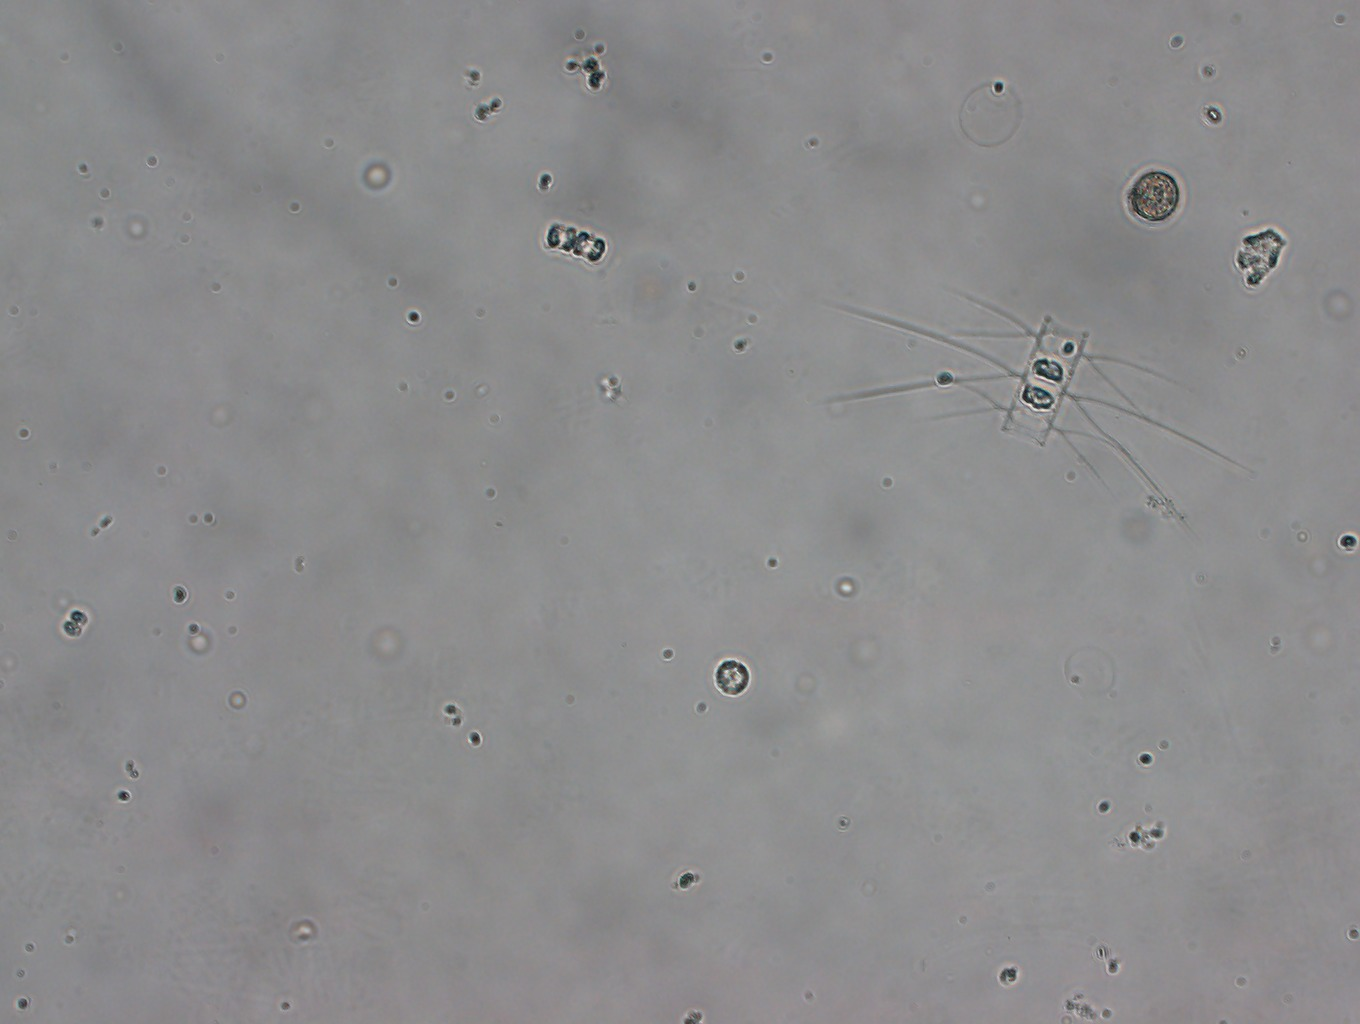chaetoceros: (817, 264, 1260, 531)
skeletonema: (528, 211, 611, 274)
